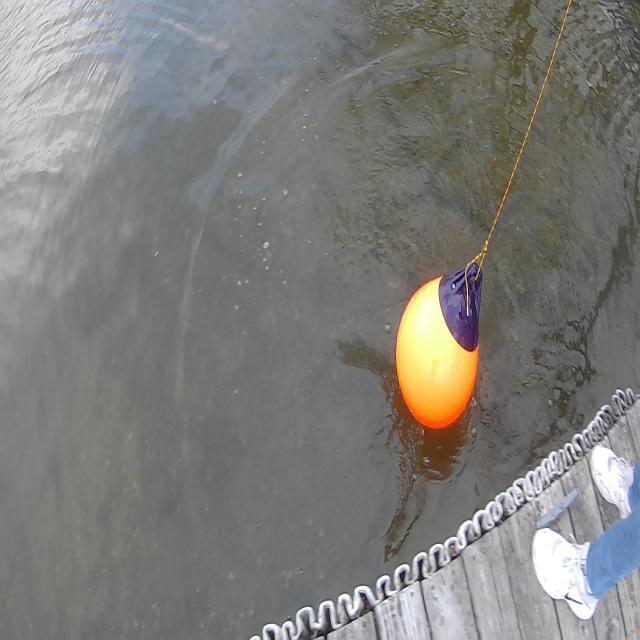Buoy: (390, 230, 492, 452)
